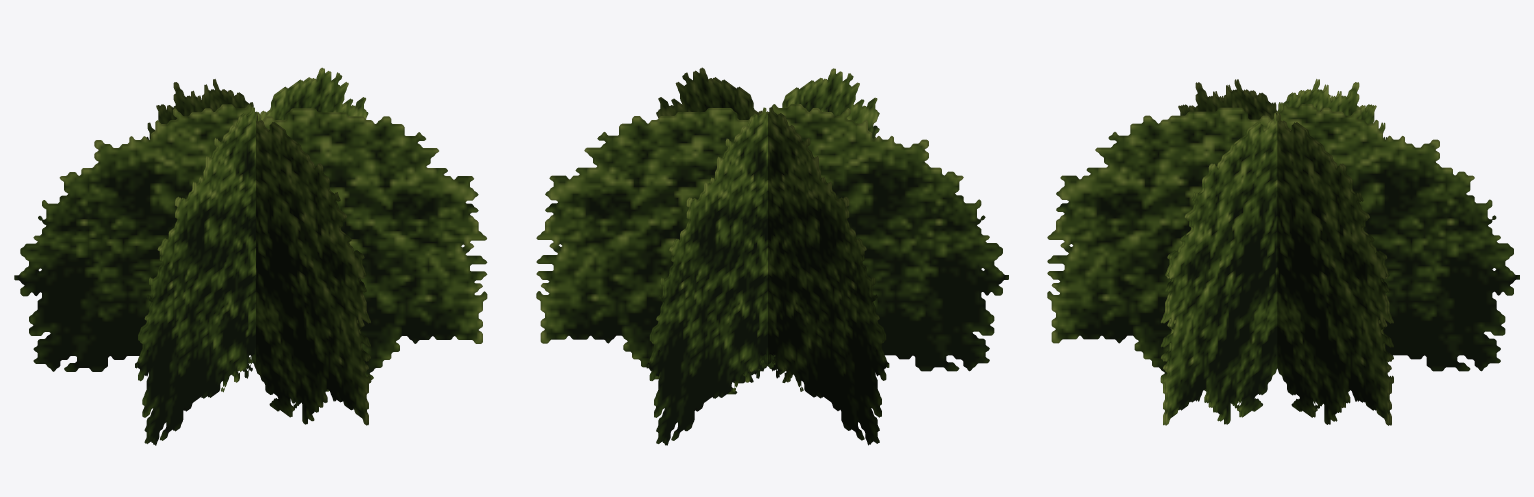
Rendered from Bush.fbx.
3 renders of one model, left to right at view 1: azimuth 30°, elevation 25°; view 2: azimuth 150°, elevation 25°; view 3: azimuth 270°, elevation 25°, orthographic.
Visible parts, largest first — view 1: Bush; view 2: Bush; view 3: Bush.
Boxes of the visible parts, x1=… form: Bush: x1=14, y1=67, x2=487, y2=445; Bush: x1=536, y1=67, x2=1008, y2=445; Bush: x1=1047, y1=79, x2=1519, y2=425.
Bounding box in the file's own units: 261 × 200 × 300.
